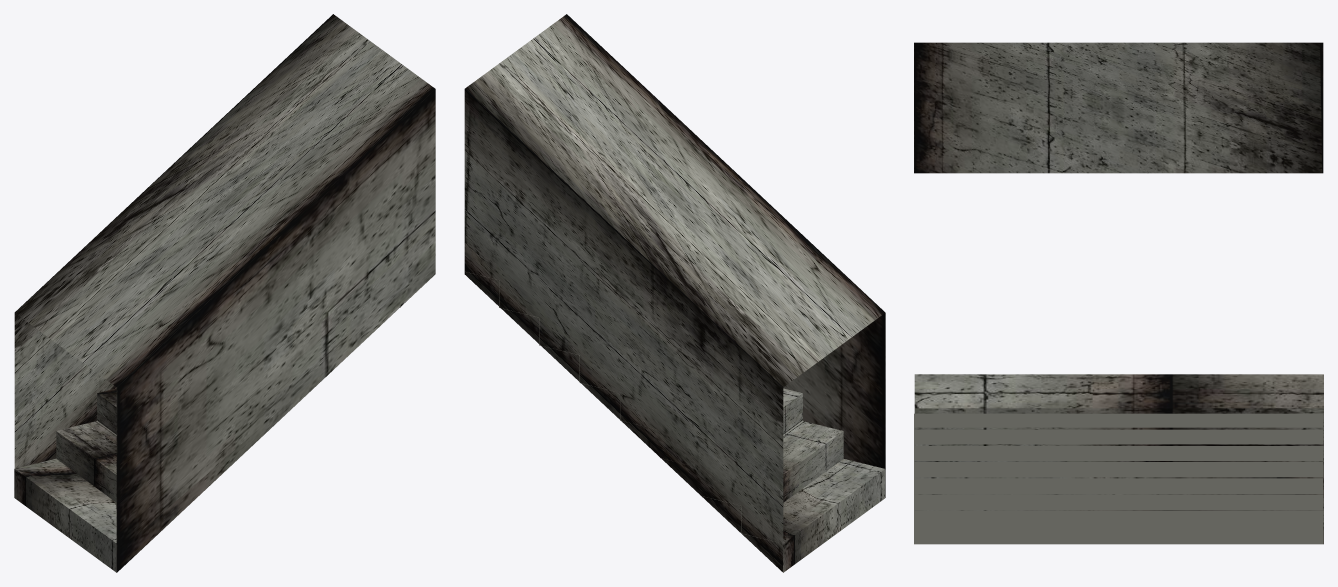
The model's file is escalerasLargas.glb.
The picture shows the model from 3 angles, left to right: view 1: azimuth 30°, elevation 25°; view 2: azimuth 150°, elevation 25°; view 3: azimuth 270°, elevation 25°; orthographic projection. The views are drawn at different scales.
Parts seen in each view (by area): view 1: Cubo.003; view 2: Cubo.003; view 3: Cubo.003.
Part boxes in pixels (box(x1,y1,x2,y2)): Cubo.003: box(14, 14, 435, 572); Cubo.003: box(464, 14, 885, 572); Cubo.003: box(914, 42, 1323, 544).
Size of the model in its own units: 9 by 10.96 by 5.01.
Materials: 1 (1 with a texture image).
